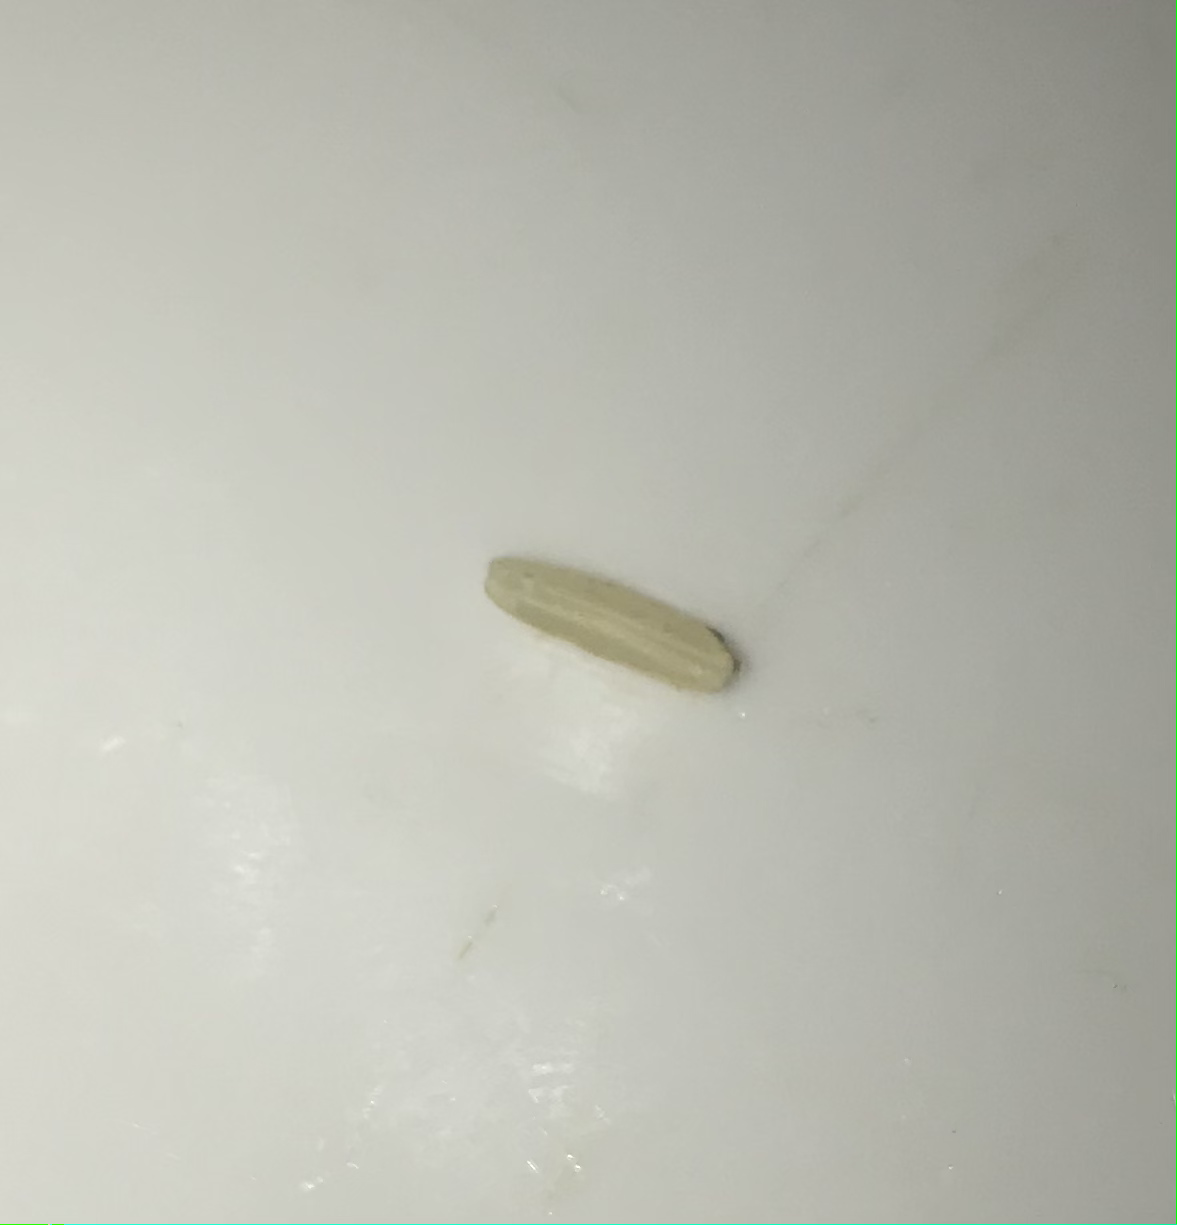Gao Lut Trang: (481, 525, 748, 716)
